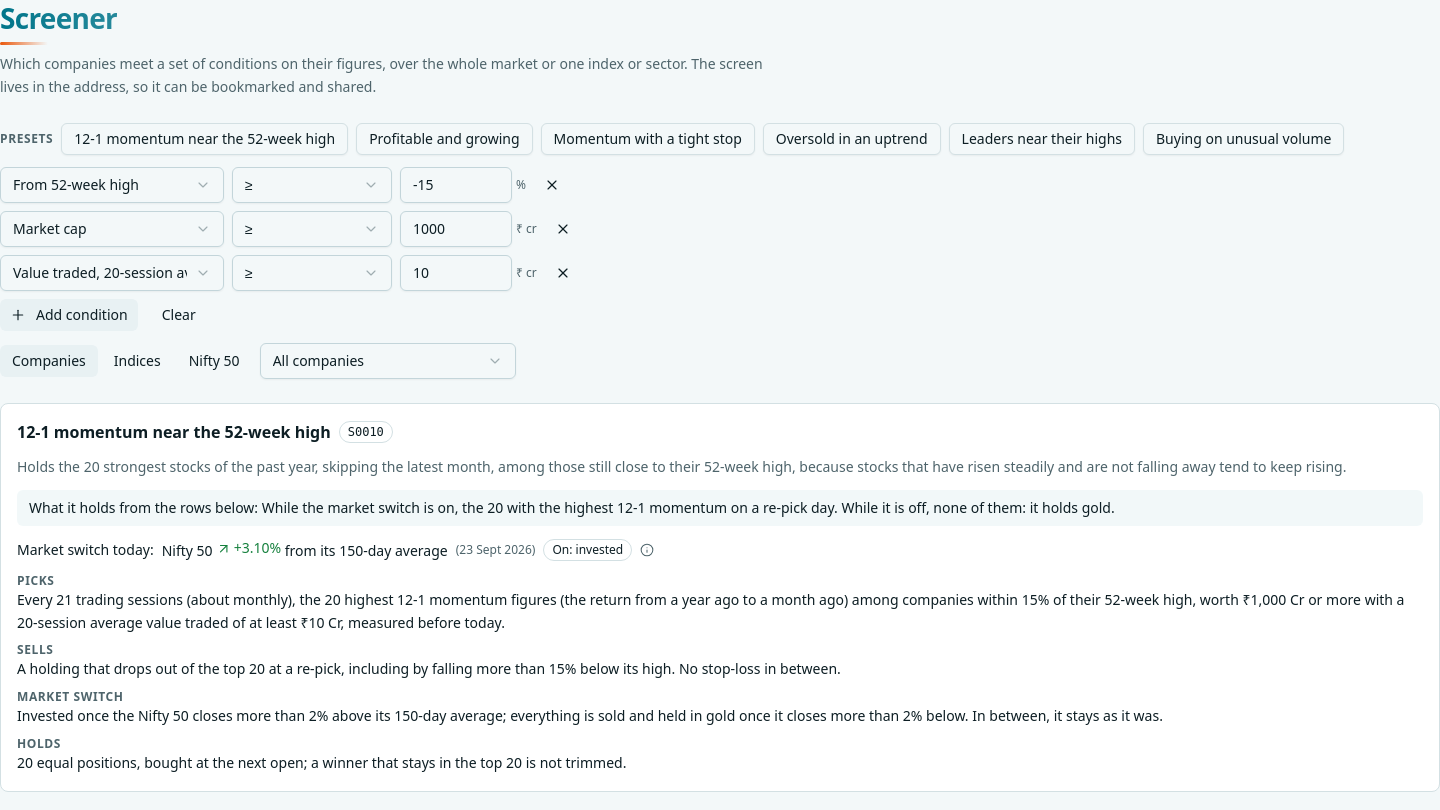
Test: Screener › keeps the panel when a condition changes, says so, and restores the strategy's screen
// A condition with no value is not sent, so the screen is still the strategy's.
Click the button "Add condition" at (69, 314), box [0, 298, 138, 330]
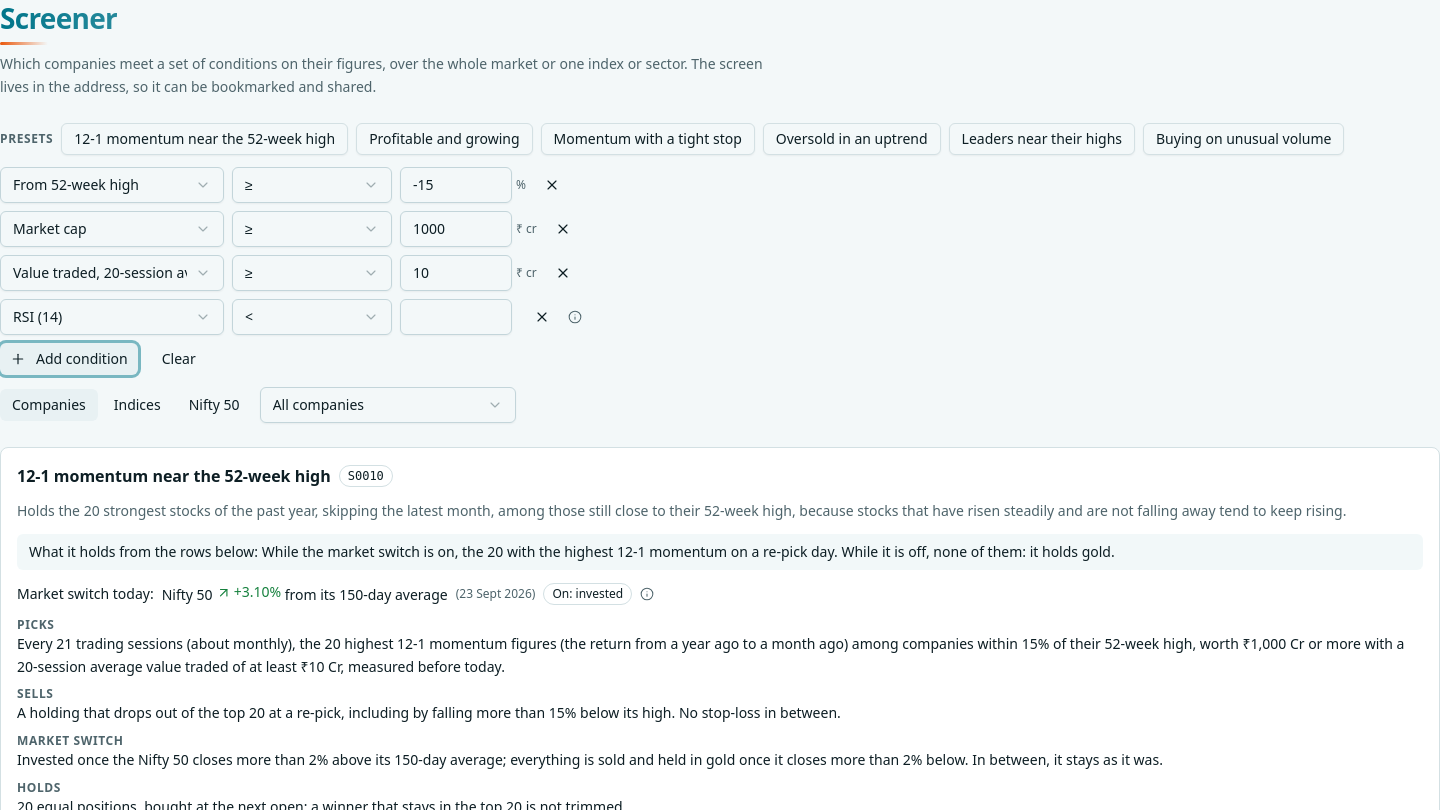
Replace the text in the 1st number field named "Value" with "-25" at (456, 184), box [400, 166, 512, 202]
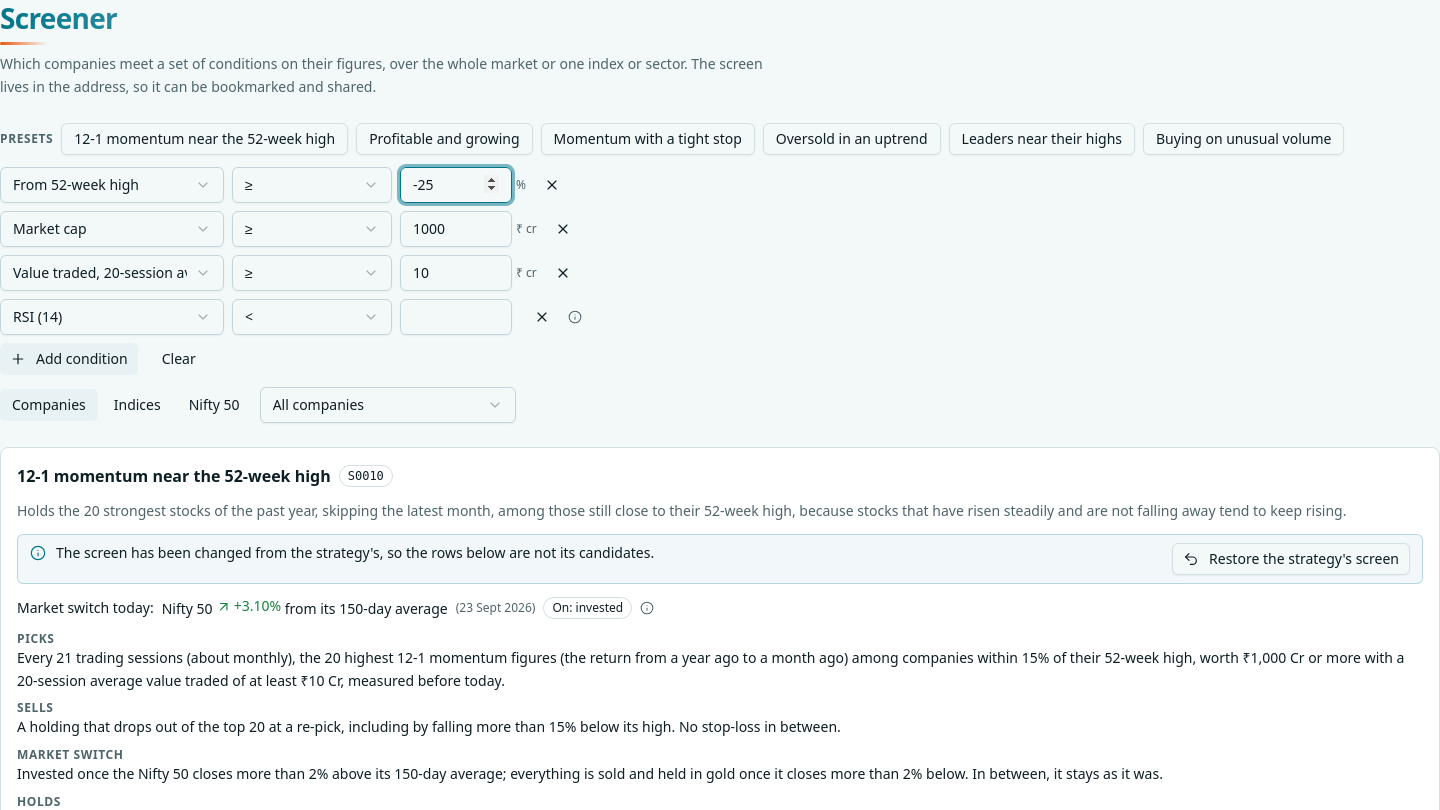
Expected: the text "the 20 with the highest" is not shown
Now the message shows "The screen has been changed from the strategy's, so the rows below are not its candidates.", box [56, 543, 654, 562]
Click the button "Restore the strategy's screen" at (1291, 559), box [1172, 543, 1410, 575]
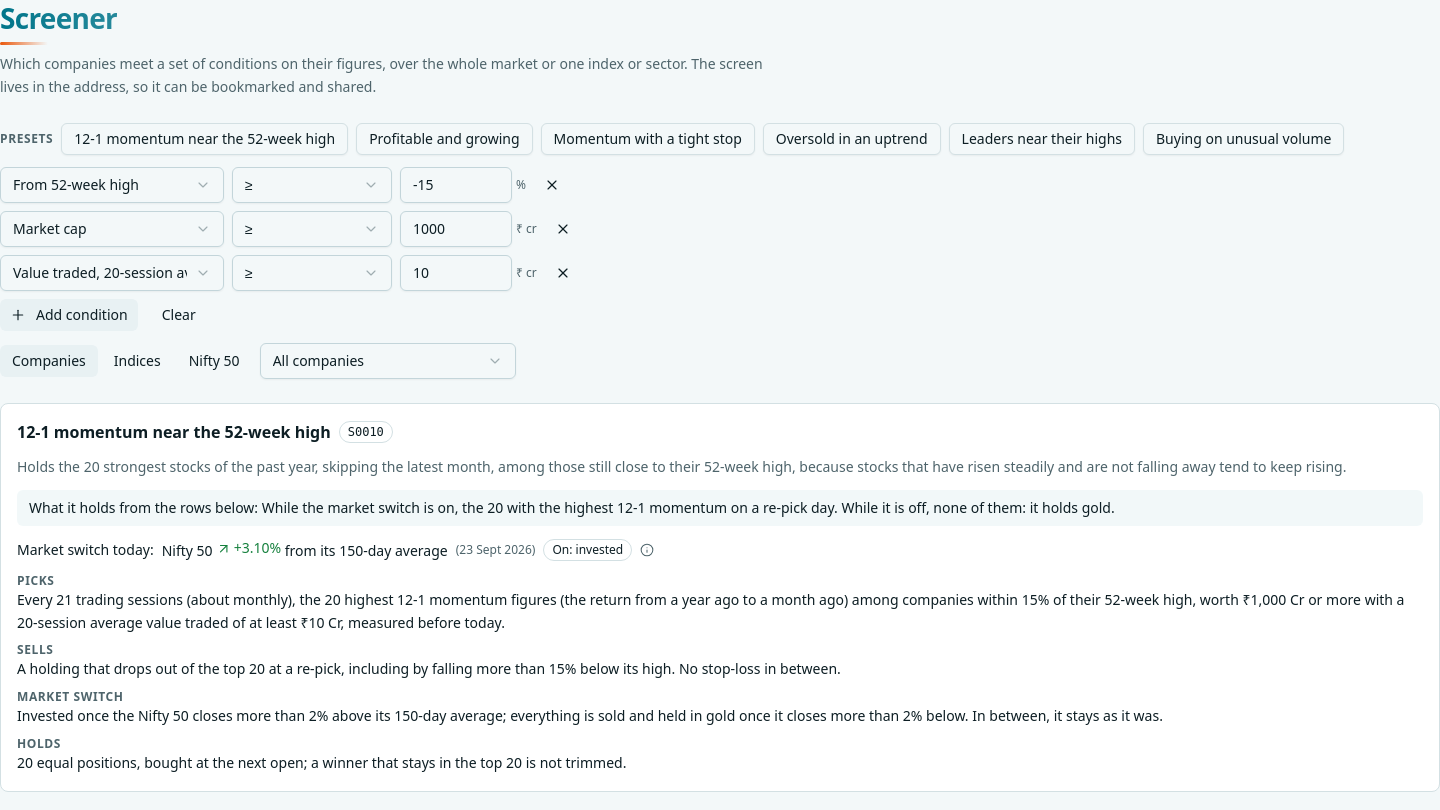
Now the message is gone
Now the number of elements named "Condition" is 3, box [0, 166, 570, 202]; [0, 210, 581, 246]; [0, 254, 581, 290]
Now the 1st number field named "Value" holds "-15", box [400, 166, 512, 202]
